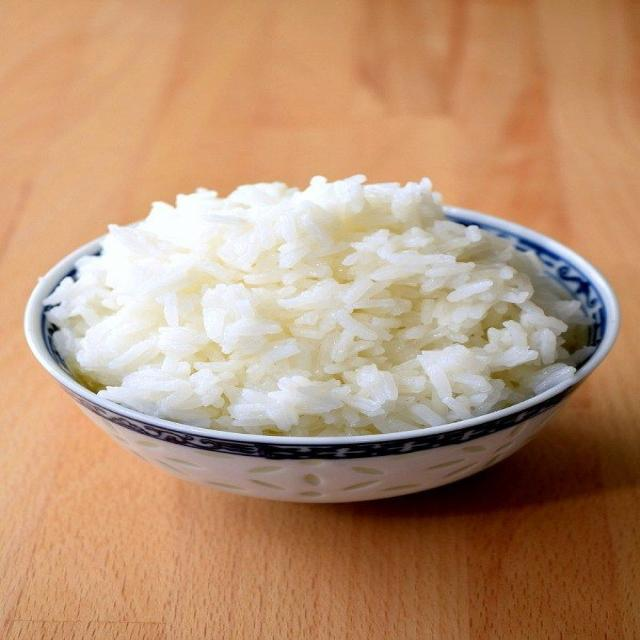rice: (45, 176, 580, 435)
